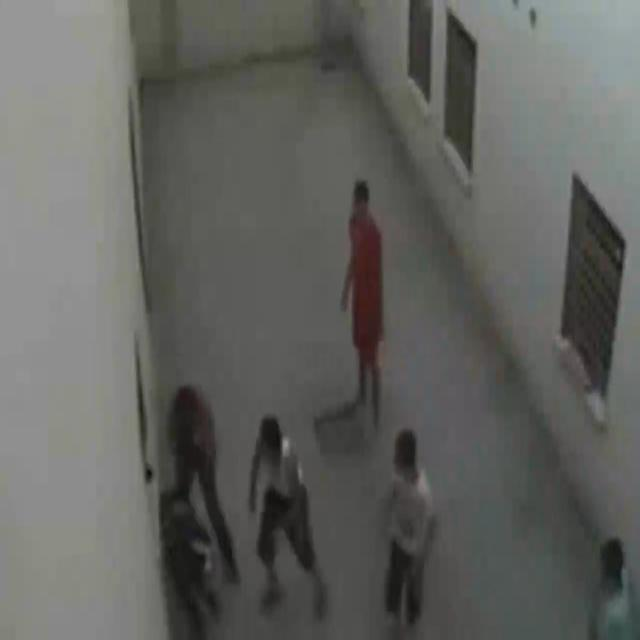fight: (162, 384, 322, 640), (155, 384, 233, 640)
